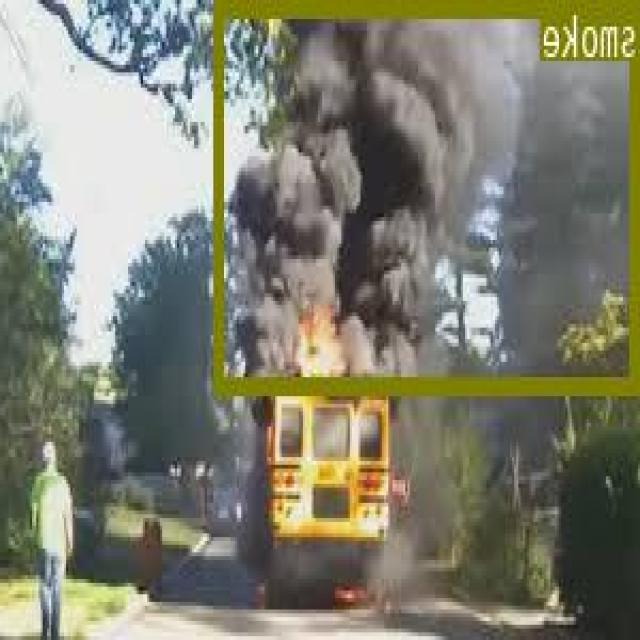smoke: (215, 0, 640, 389)
